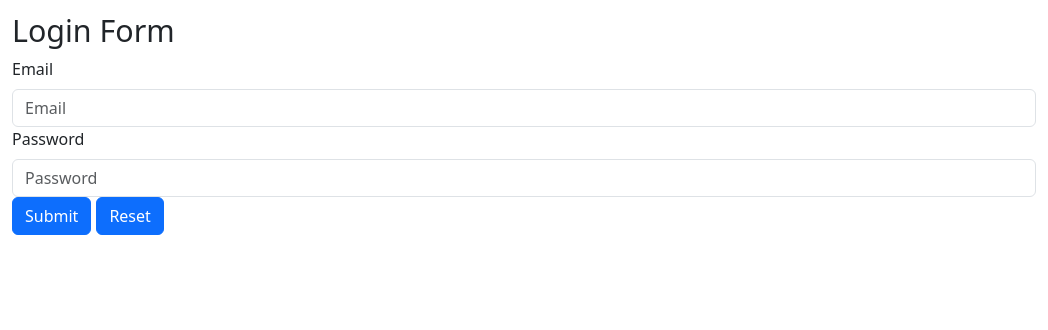
it: Test the Login Component › should be able to submit the form
Type "arpi@gmail.com" into the field with placeholder "Email". click: (524, 108)
box: [12,88,1036,126]
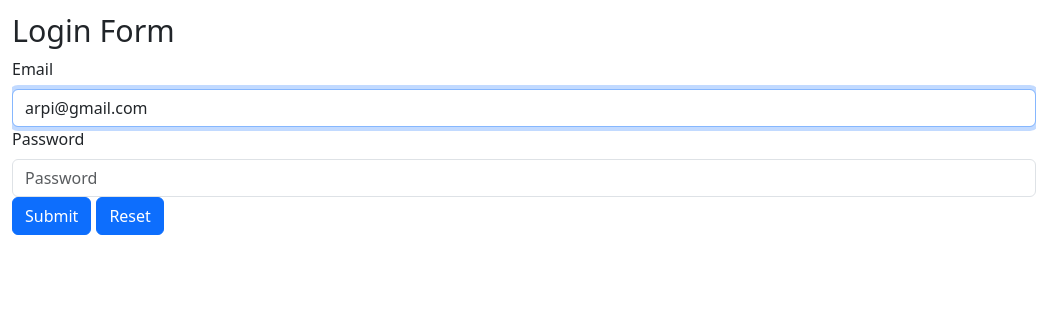
Type "123456" into the password field with placeholder "Password". click: (524, 178)
box: [12,158,1036,196]
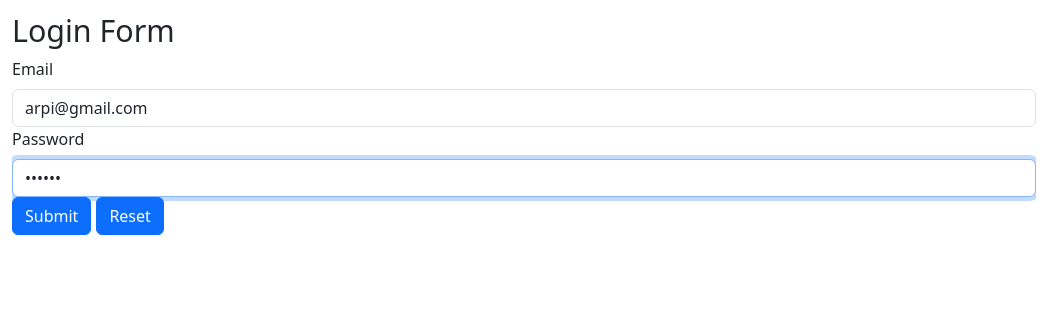
Click the button "Submit". click: (52, 216)
box: [12,196,91,234]
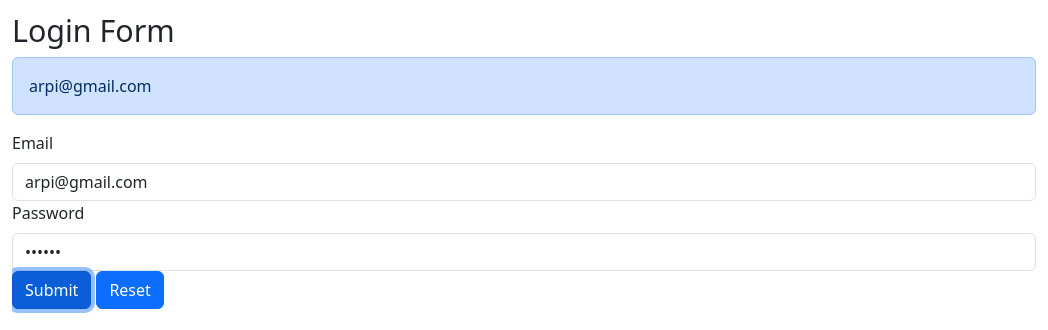
Now the text "arpi@gmail.com" is shown, box [12,56,1036,114]
